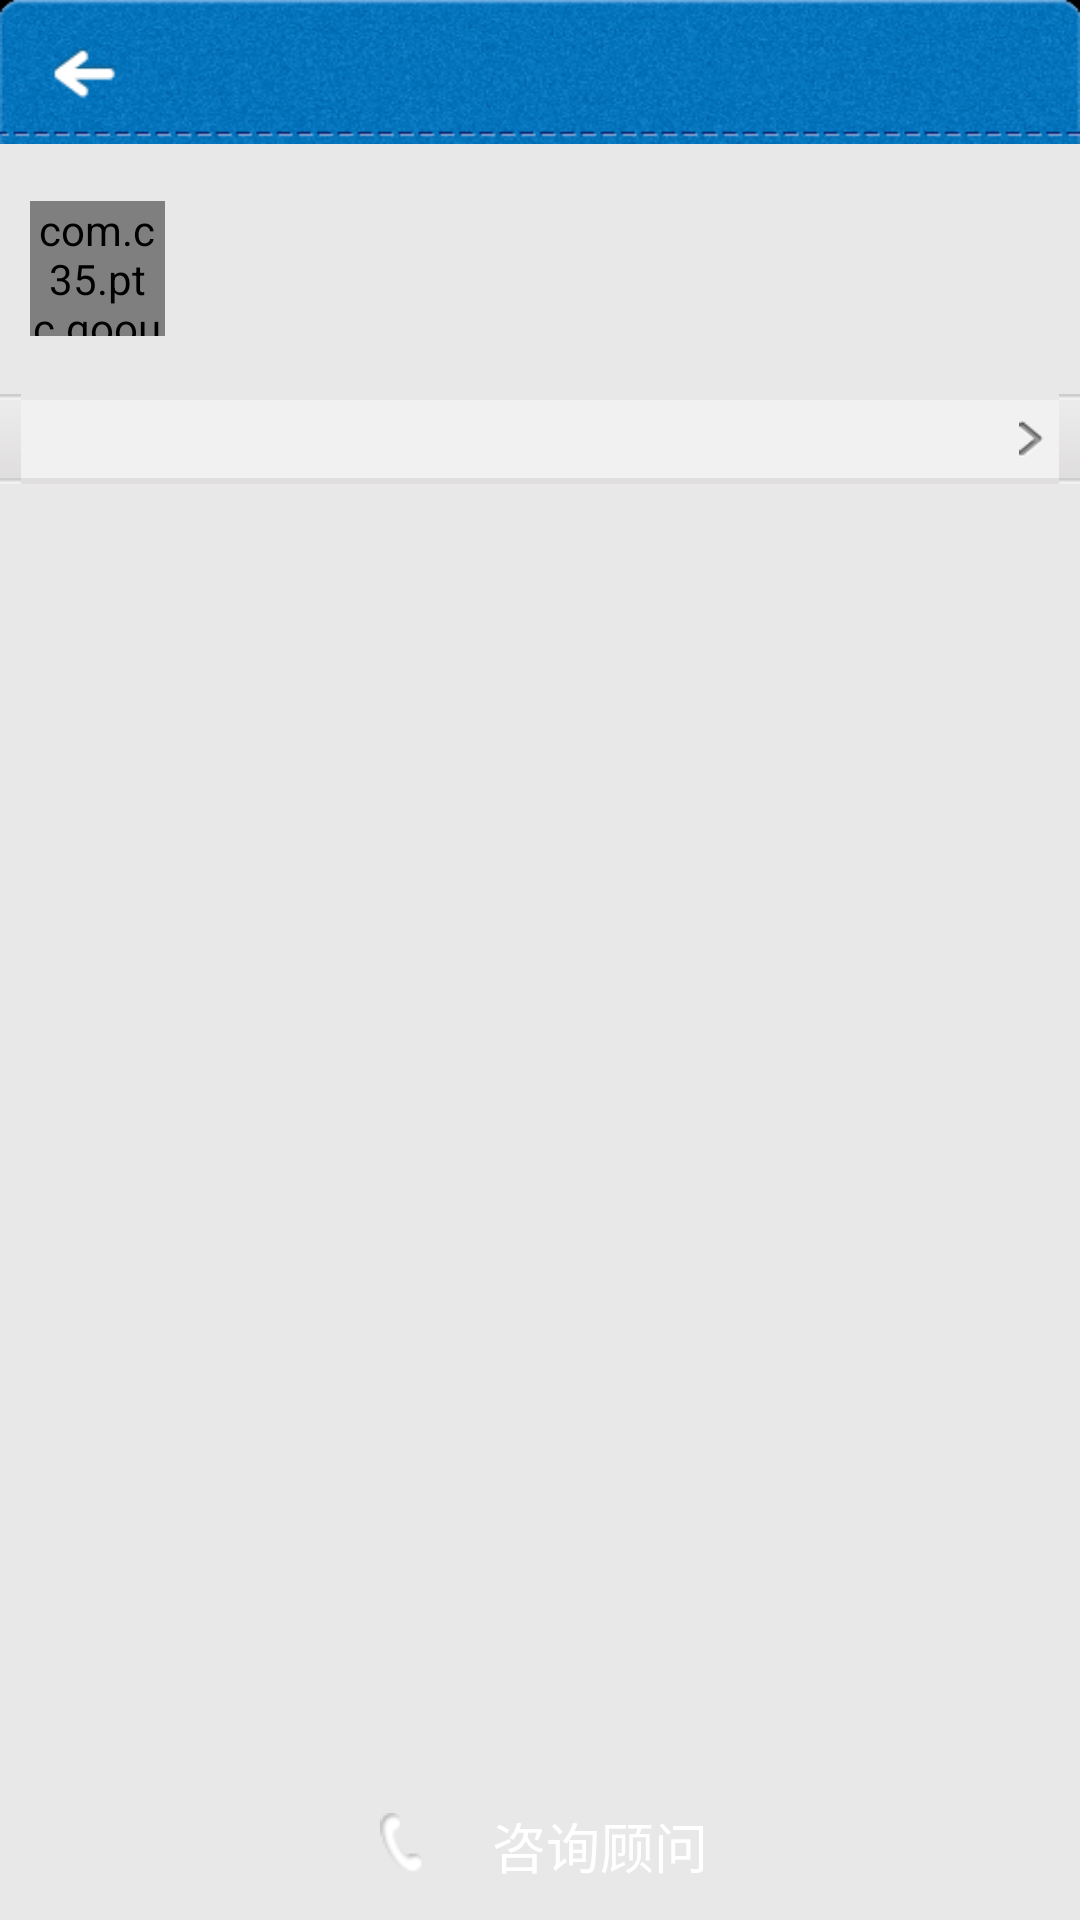

Locate icon controls on the screen. Image size 1080 x 1920, boxes as [x1, y1, x2, y2].
arrow right: [1019, 421, 1043, 456]
